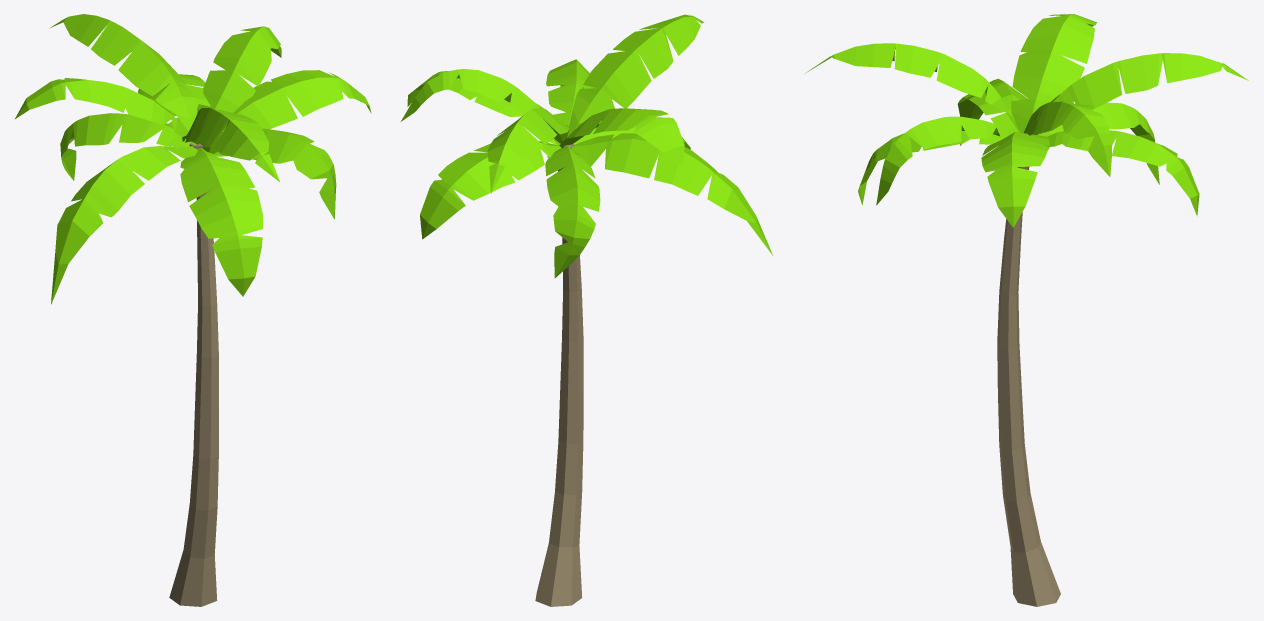
File: palm07.fbx
The picture shows the model from 3 angles, left to right: view 1: azimuth 30°, elevation 25°; view 2: azimuth 150°, elevation 25°; view 3: azimuth 270°, elevation 25°; orthographic projection. The views are drawn at different scales.
Parts seen in each view (by area): view 1: palm.007; view 2: palm.007; view 3: palm.007.
Boxes of the visible parts, x1,y1,x2,y2 form: palm.007: (15, 14, 371, 606); palm.007: (401, 14, 772, 606); palm.007: (805, 14, 1248, 606).
Size of the model in its own units: 244 by 361 by 274.
